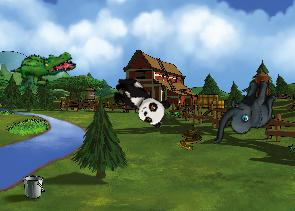crocodile: (9, 36, 78, 98)
elephant: (212, 74, 278, 151)
panda: (106, 72, 173, 130)
